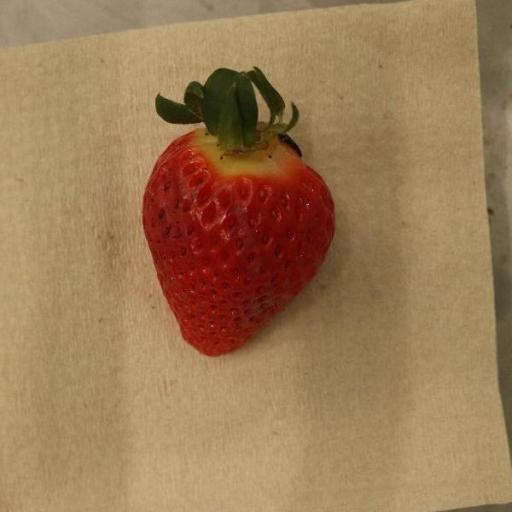Strawberry: (142, 67, 336, 359)
